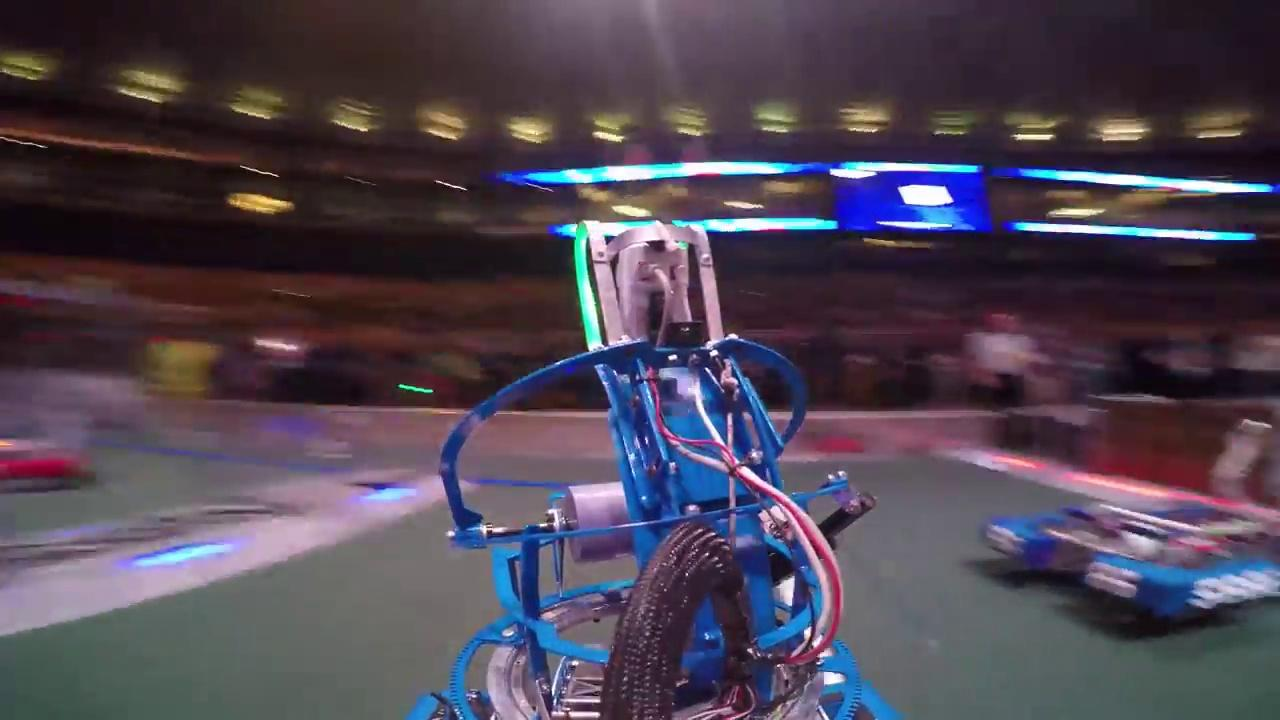robot: (981, 413, 1280, 635)
